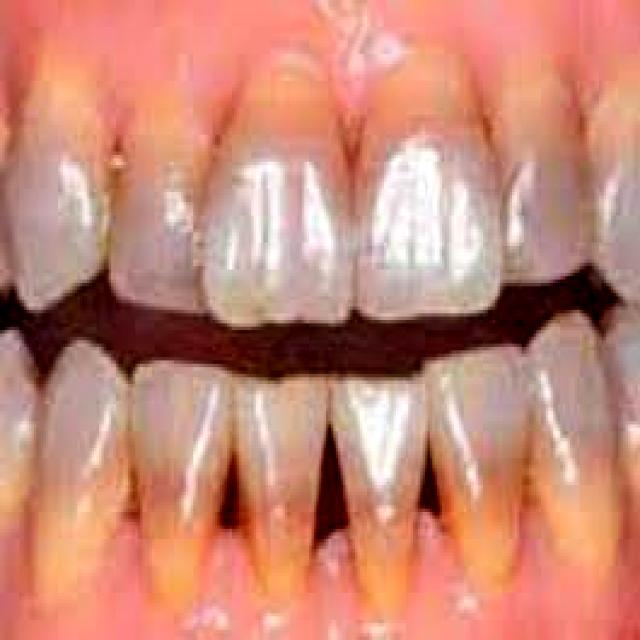tooth-discoloration: (203, 51, 355, 323), (0, 51, 109, 307), (357, 131, 500, 317), (34, 340, 128, 606), (130, 360, 234, 600), (109, 81, 217, 310), (423, 347, 526, 586), (331, 377, 425, 616), (234, 377, 326, 593), (505, 155, 589, 280)
